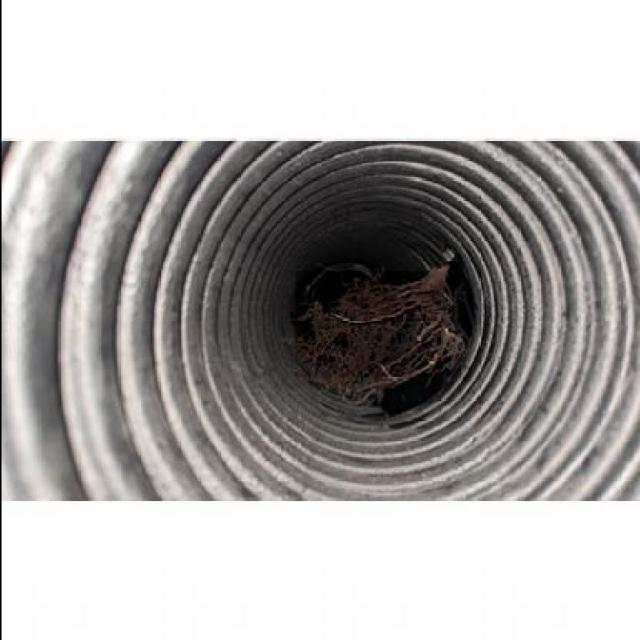root: (314, 280, 462, 378)
